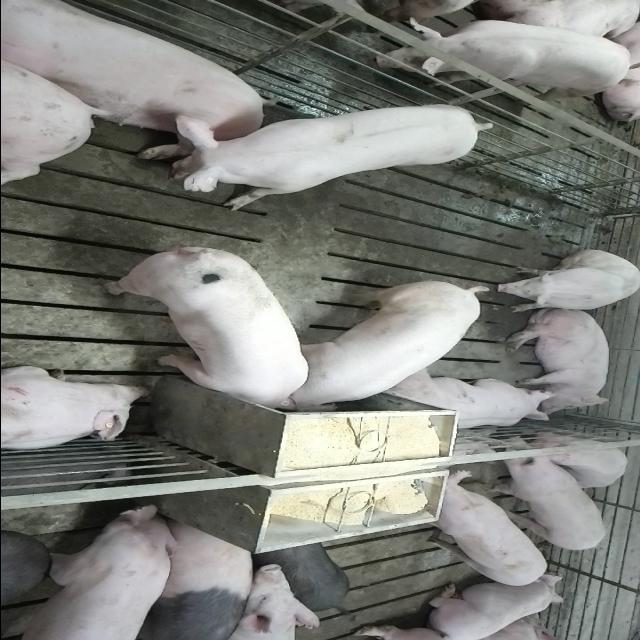Feeding: (101, 250, 308, 420), (280, 278, 490, 410)
Lateral_lying: (502, 307, 612, 416)
Sitting: (494, 250, 640, 313)
Standing: (159, 105, 495, 214), (359, 12, 633, 105), (0, 502, 178, 638), (408, 472, 548, 588), (132, 514, 256, 638), (484, 447, 608, 550)
Sternal_lying: (0, 365, 149, 453), (378, 372, 554, 432), (419, 578, 566, 638)
